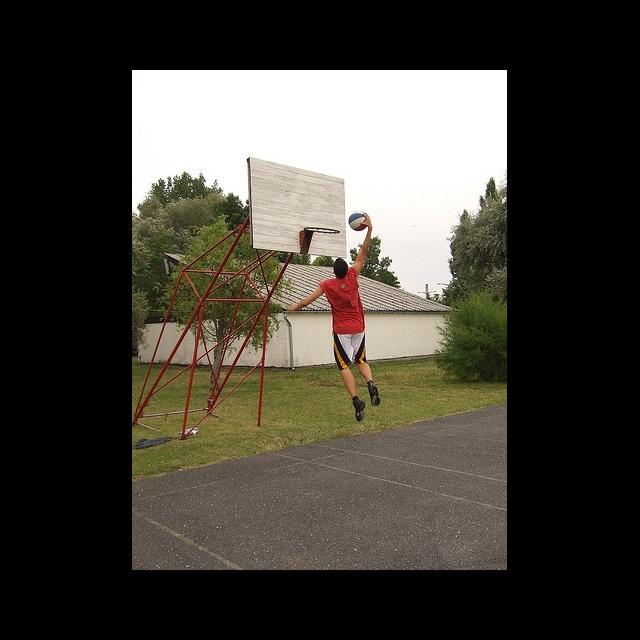basketball: (348, 211, 370, 231)
hoop: (305, 226, 341, 255)
